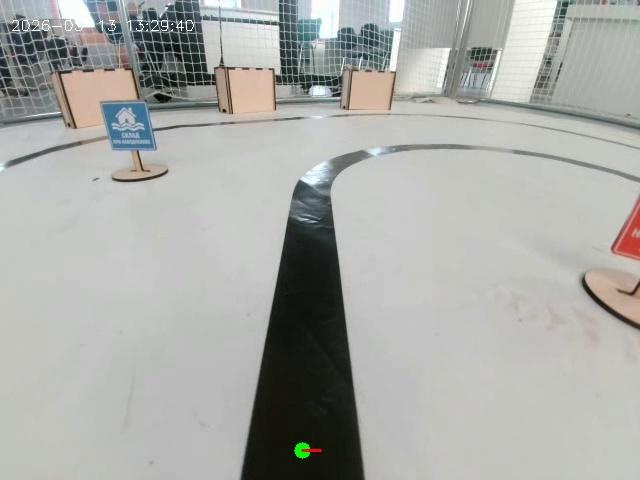flood: (90, 98, 171, 183)
